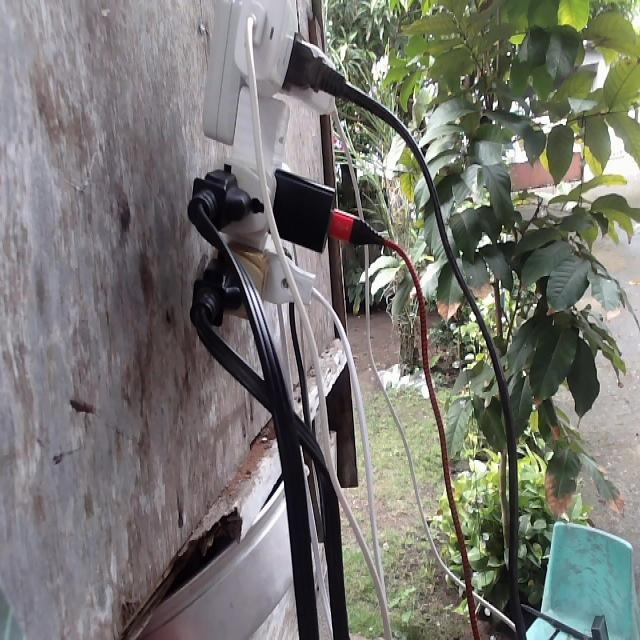-: (187, 0, 358, 331)
